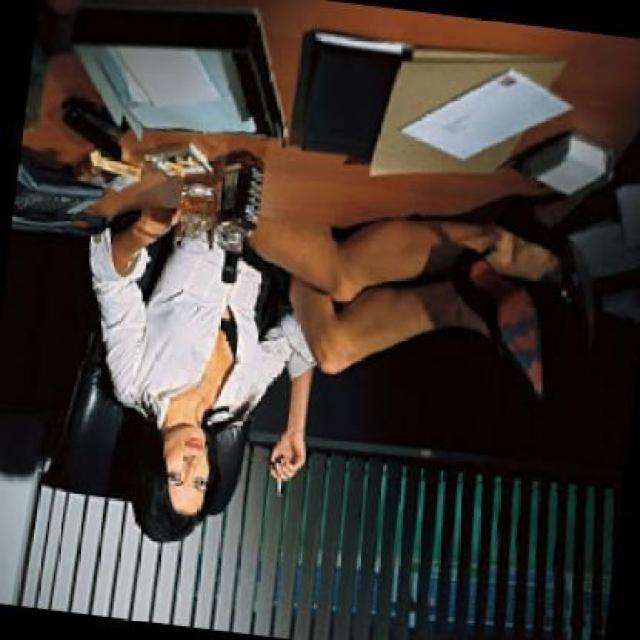smoke: (270, 470, 286, 496)
